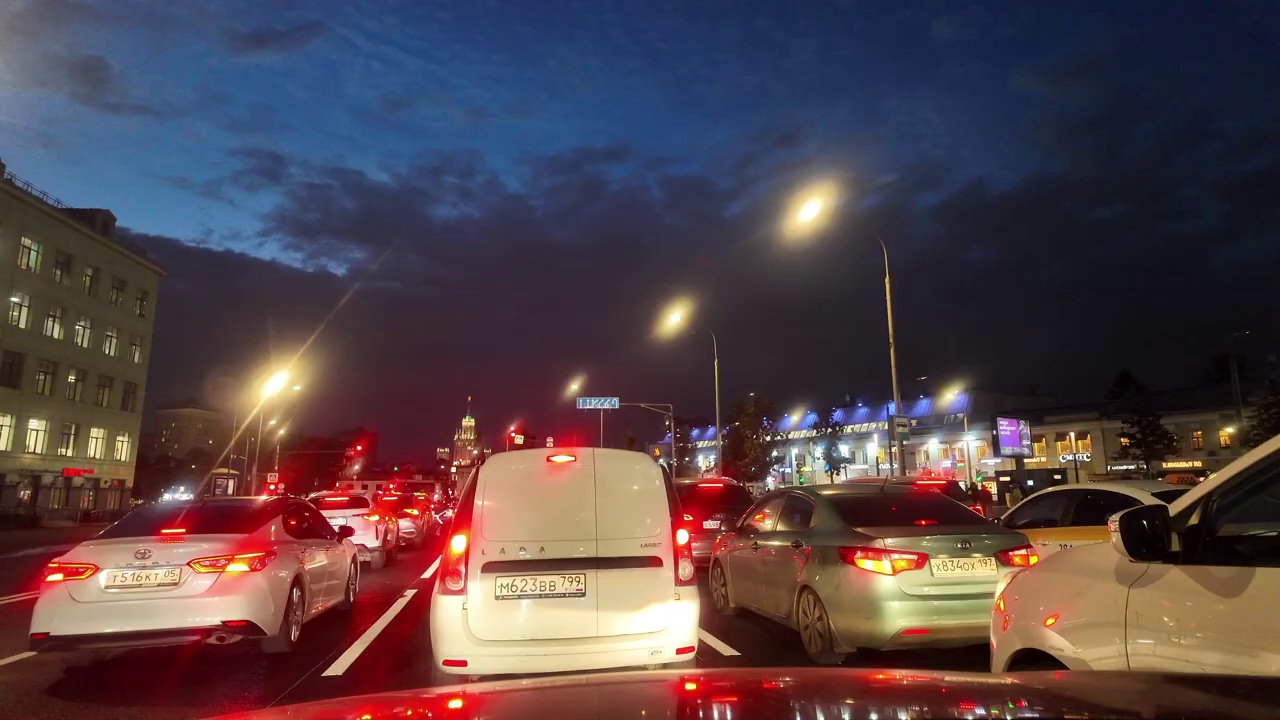acesa: (785, 186, 836, 242), (248, 361, 299, 409), (652, 295, 695, 342)
